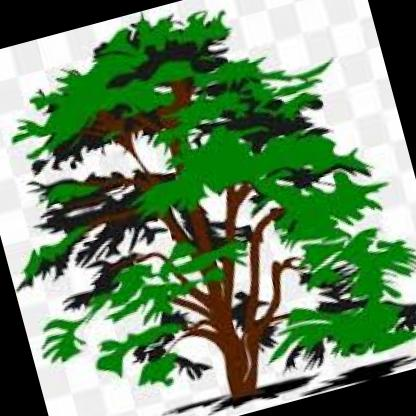branch_cut: (125, 176, 321, 367)
crown_dizzy: (0, 0, 416, 416)
root_none: (217, 375, 272, 408)
trunk_bark: (217, 342, 269, 393)
